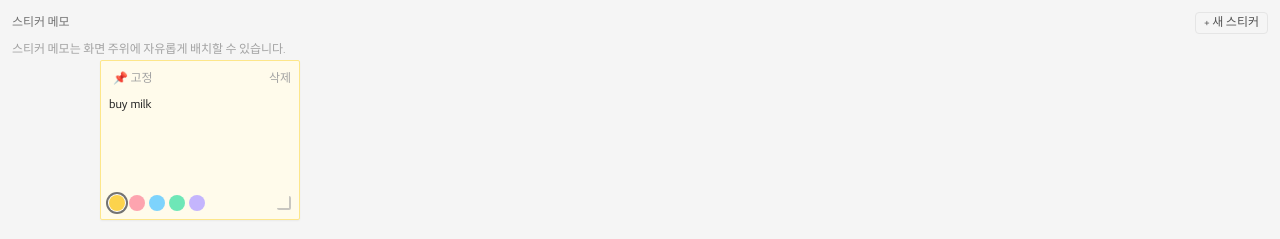
Test: StickyNotesView › Main Board collision › blocks a drag the instant it would enter the Main Board's real bounding rect
Press the mouse on the element with test id "sticky-note-s1" at (200, 140), box [100,60,300,220]
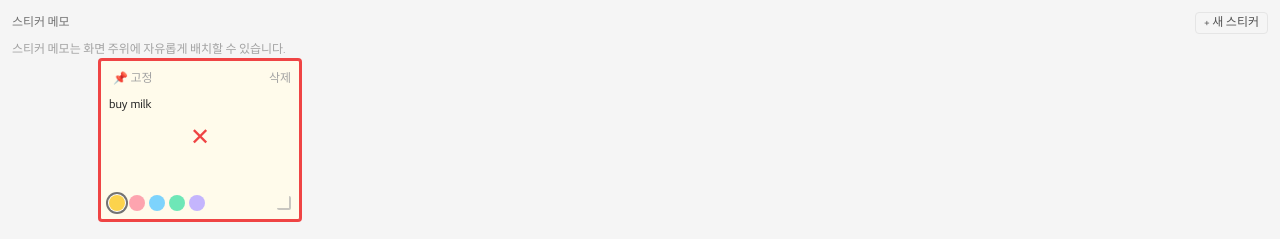
Check: the text "✕" is shown, box [190,128,210,152]
